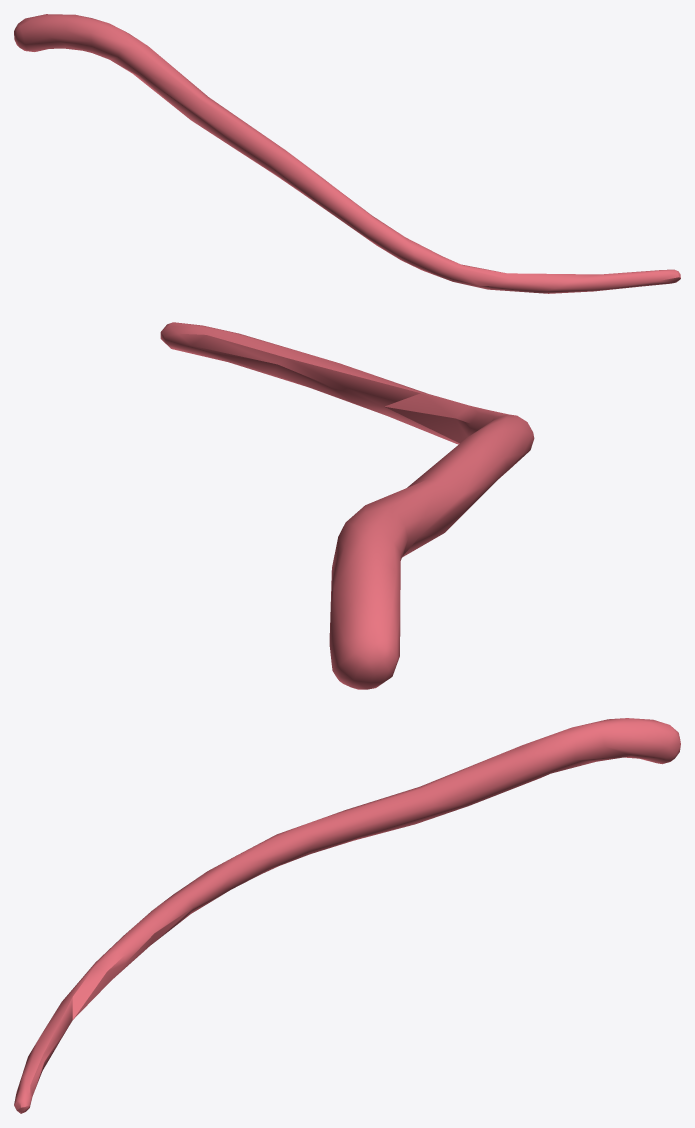
The model's file is fma49475_fj5103.glb.
The picture shows the model from 3 angles, top to bottom: view 1: azimuth 30°, elevation 25°; view 2: azimuth 150°, elevation 25°; view 3: azimuth 270°, elevation 25°; orthographic projection. The views are drawn at different scales.
Parts seen in each view (by area): view 1: FMA49475_FJ5103; view 2: FMA49475_FJ5103; view 3: FMA49475_FJ5103.
Part boxes in pixels (x1,y1,x2,y2): FMA49475_FJ5103: (14, 14, 680, 293); FMA49475_FJ5103: (160, 322, 534, 689); FMA49475_FJ5103: (14, 718, 680, 1113).
Bounding box in the file's own units: 0.0244 × 0.01 × 0.031.
